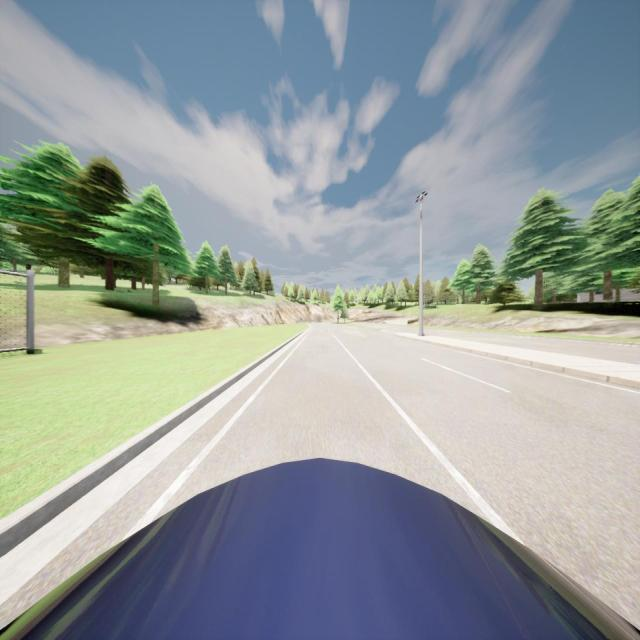Vehicle: (2, 459, 640, 638)
